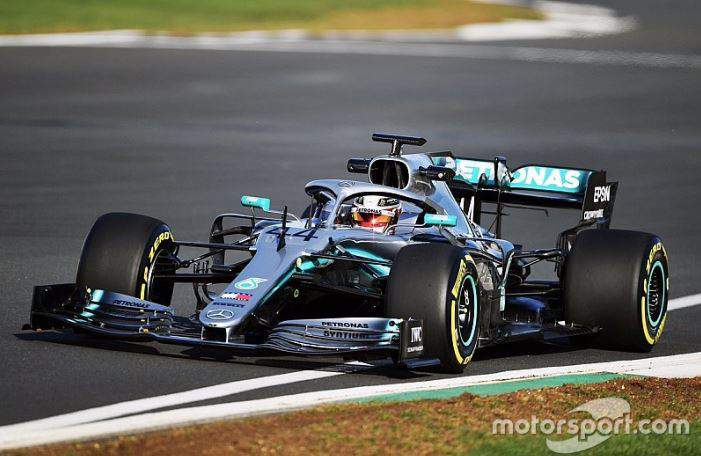F1 Car: (24, 128, 675, 375)
